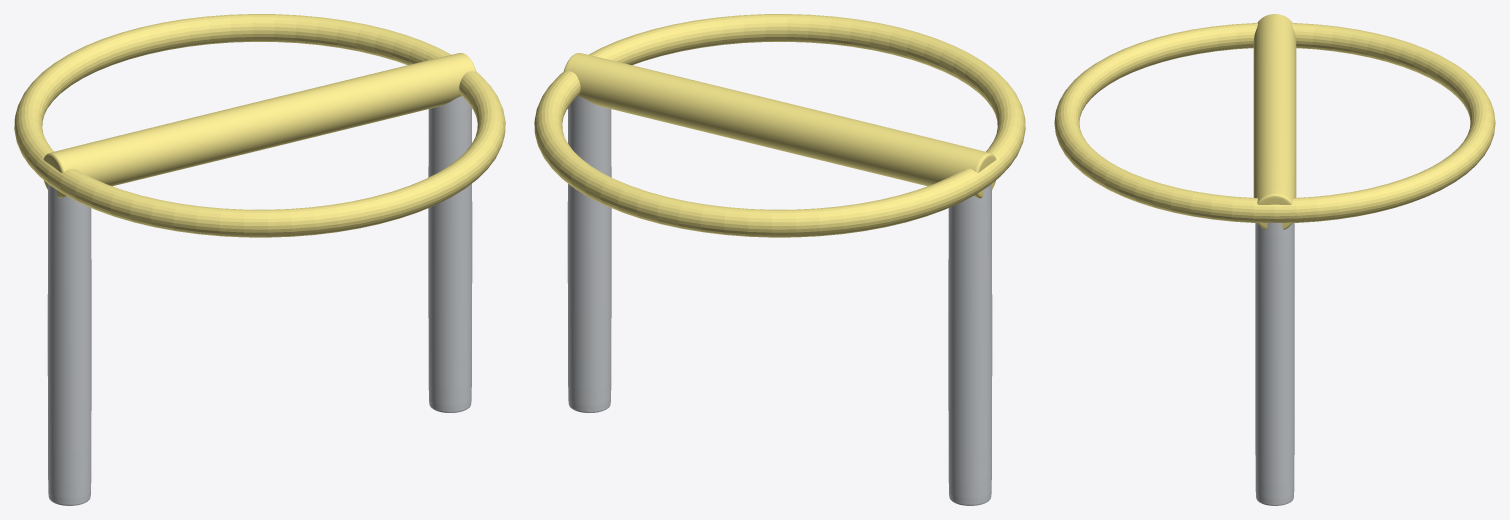
File: Toy_VaultRail_090_Hi.fbx
The picture shows the model from 3 angles, left to right: view 1: azimuth 30°, elevation 25°; view 2: azimuth 150°, elevation 25°; view 3: azimuth 270°, elevation 25°; orthographic projection. The views are drawn at different scales.
Parts seen in each view (by area): view 1: Lip, Rail, Post_-0.55, Post_0.55; view 2: Lip, Rail, Post_-0.55, Post_0.55; view 3: Lip, Post_0.55, Rail.
Boxes of the visible parts, x1,y1,x2,y2 form: Lip: [14, 14, 505, 237]; Rail: [43, 53, 476, 198]; Post_-0.55: [47, 184, 91, 505]; Post_0.55: [428, 96, 472, 412]; Lip: [534, 14, 1025, 237]; Rail: [563, 53, 996, 198]; Post_-0.55: [948, 184, 992, 505]; Post_0.55: [567, 96, 611, 412]; Lip: [1054, 23, 1495, 222]; Post_0.55: [1255, 222, 1294, 505]; Rail: [1253, 14, 1296, 229].
Size of the model in its own units: 1.23 by 0.9597 by 1.23.
